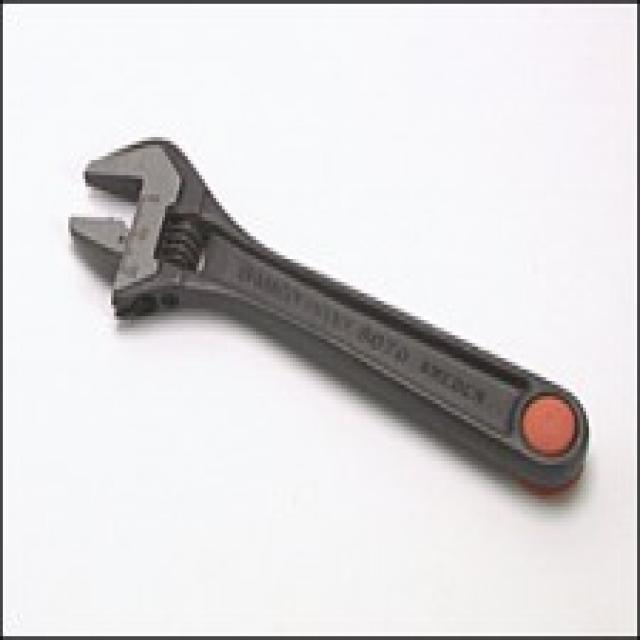wrench: (48, 119, 619, 508)
